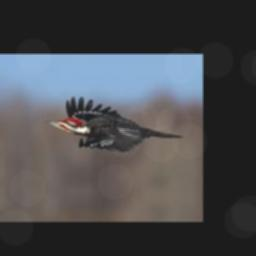Woodpecker: (44, 96, 183, 152)
